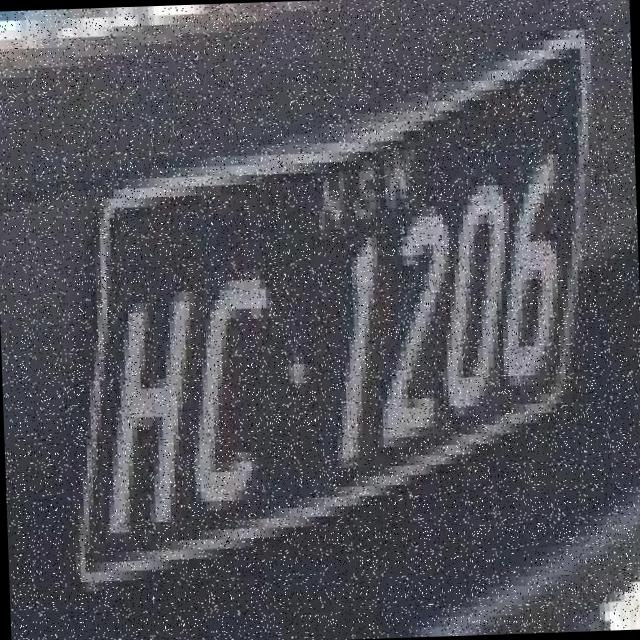LicensePlate: (23, 13, 632, 601)
